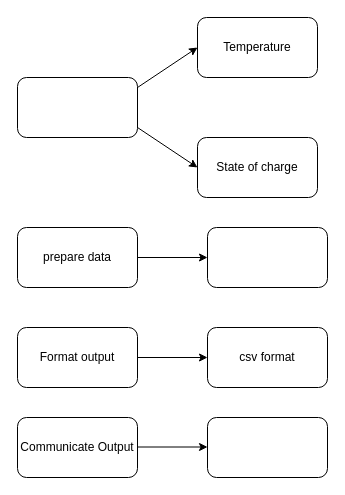
The diagram is 345 pixels wide and 495 high, and some of its shapes have lost their labels. Here are the shapes that lost their labels. From the top down, the centre of each, then its label:
At pixel 77 107: "Select 2 Battery parameter".
At pixel 267 257: "generate data of length 50 each".
At pixel 267 447: "through console".
